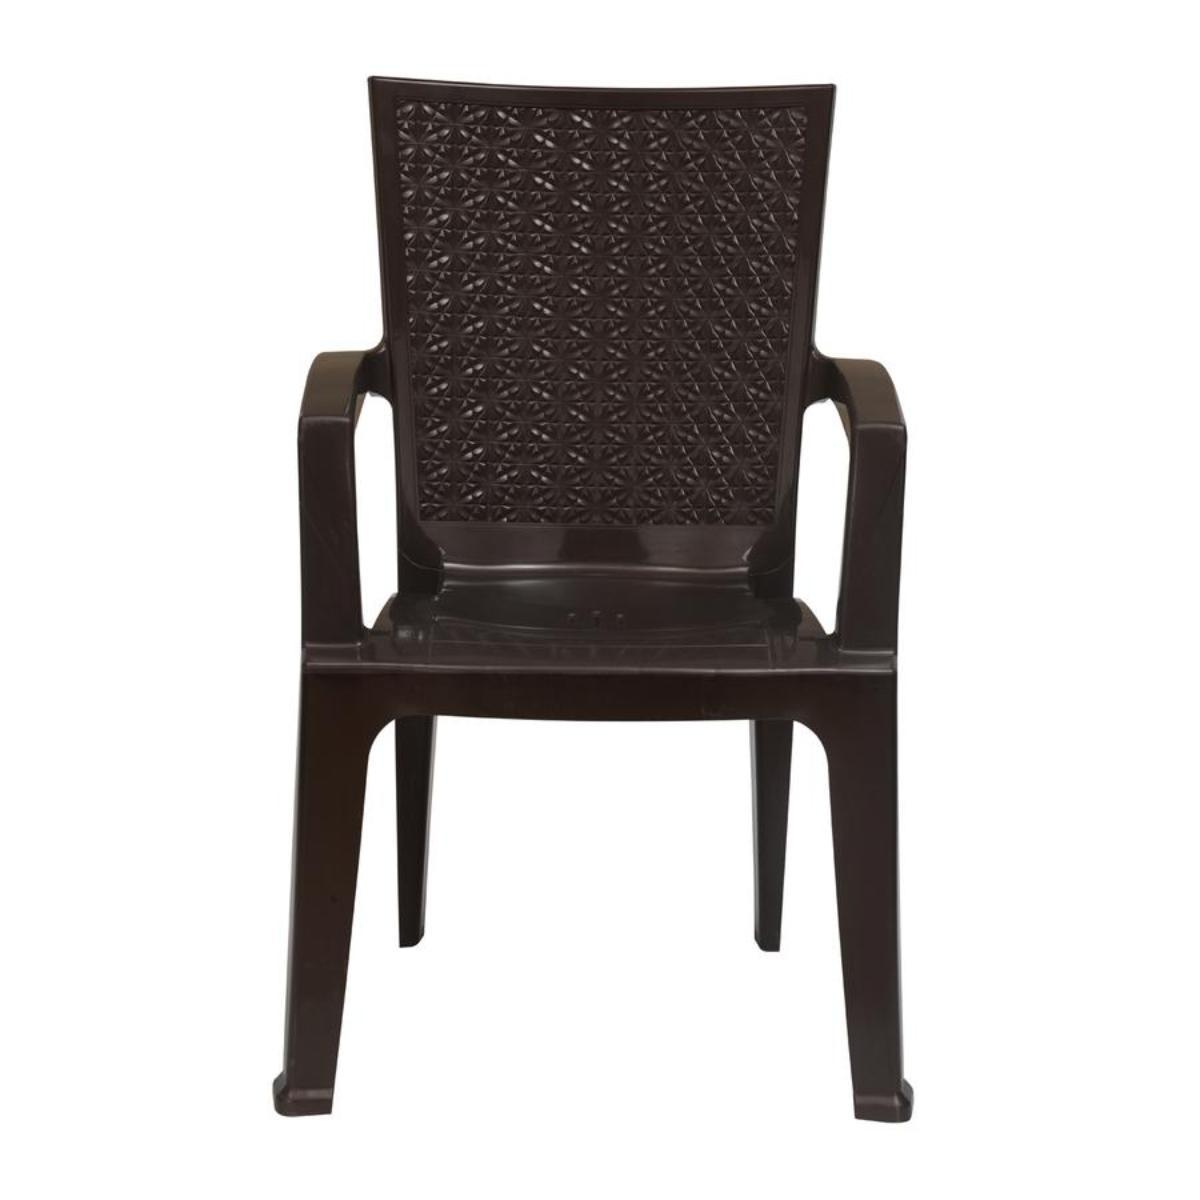Chair: (270, 71, 924, 1125)
